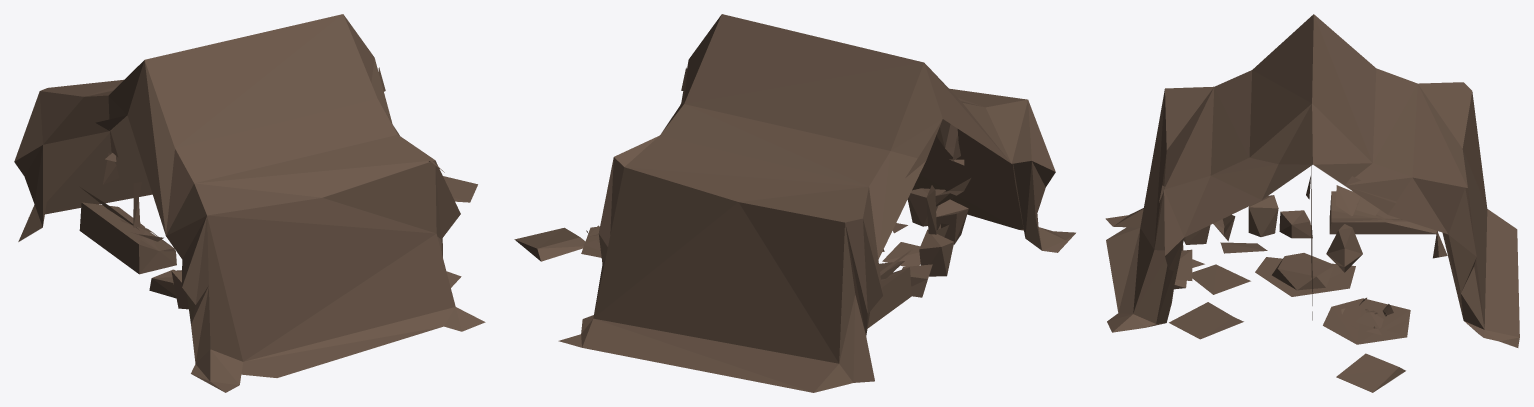
The model's file is camp-gear.lod1.glb.
3 views of the same model, side by side, from view 1: azimuth 30°, elevation 25°; view 2: azimuth 150°, elevation 25°; view 3: azimuth 270°, elevation 25° (orthographic). The views are drawn at different scales.
Parts seen in each view (by area): view 1: Object_4; view 2: Object_4; view 3: Object_4.
Boxes of the visible parts, left/top/right/bottom form: Object_4: left=14, top=14, right=485, bottom=392; Object_4: left=514, top=14, right=1075, bottom=392; Object_4: left=1105, top=14, right=1519, bottom=392.
Bounding box in the file's own units: 3.84 × 2.22 × 3.69.
